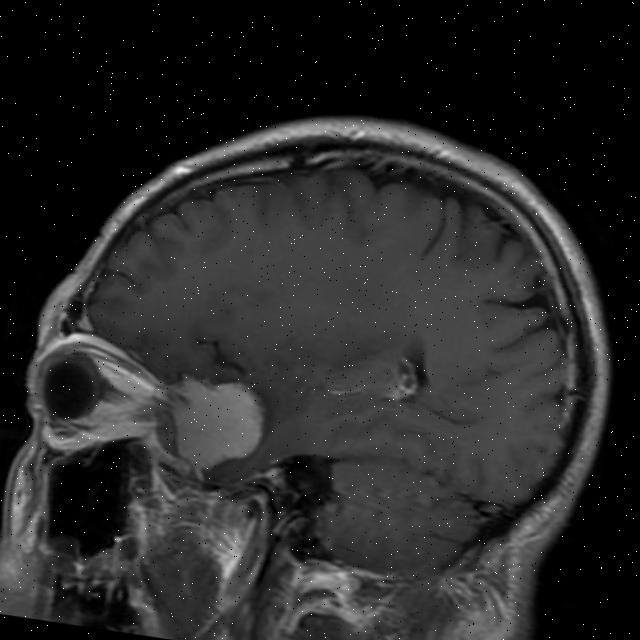Meningioma: (157, 369, 271, 480)
